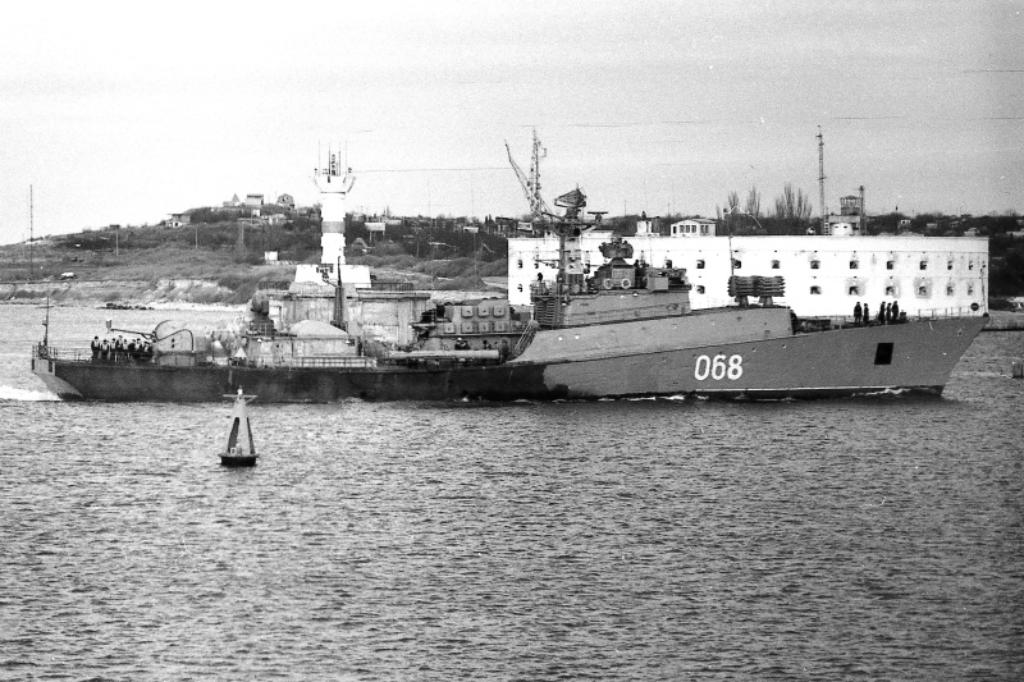Warship: (24, 186, 988, 402)
